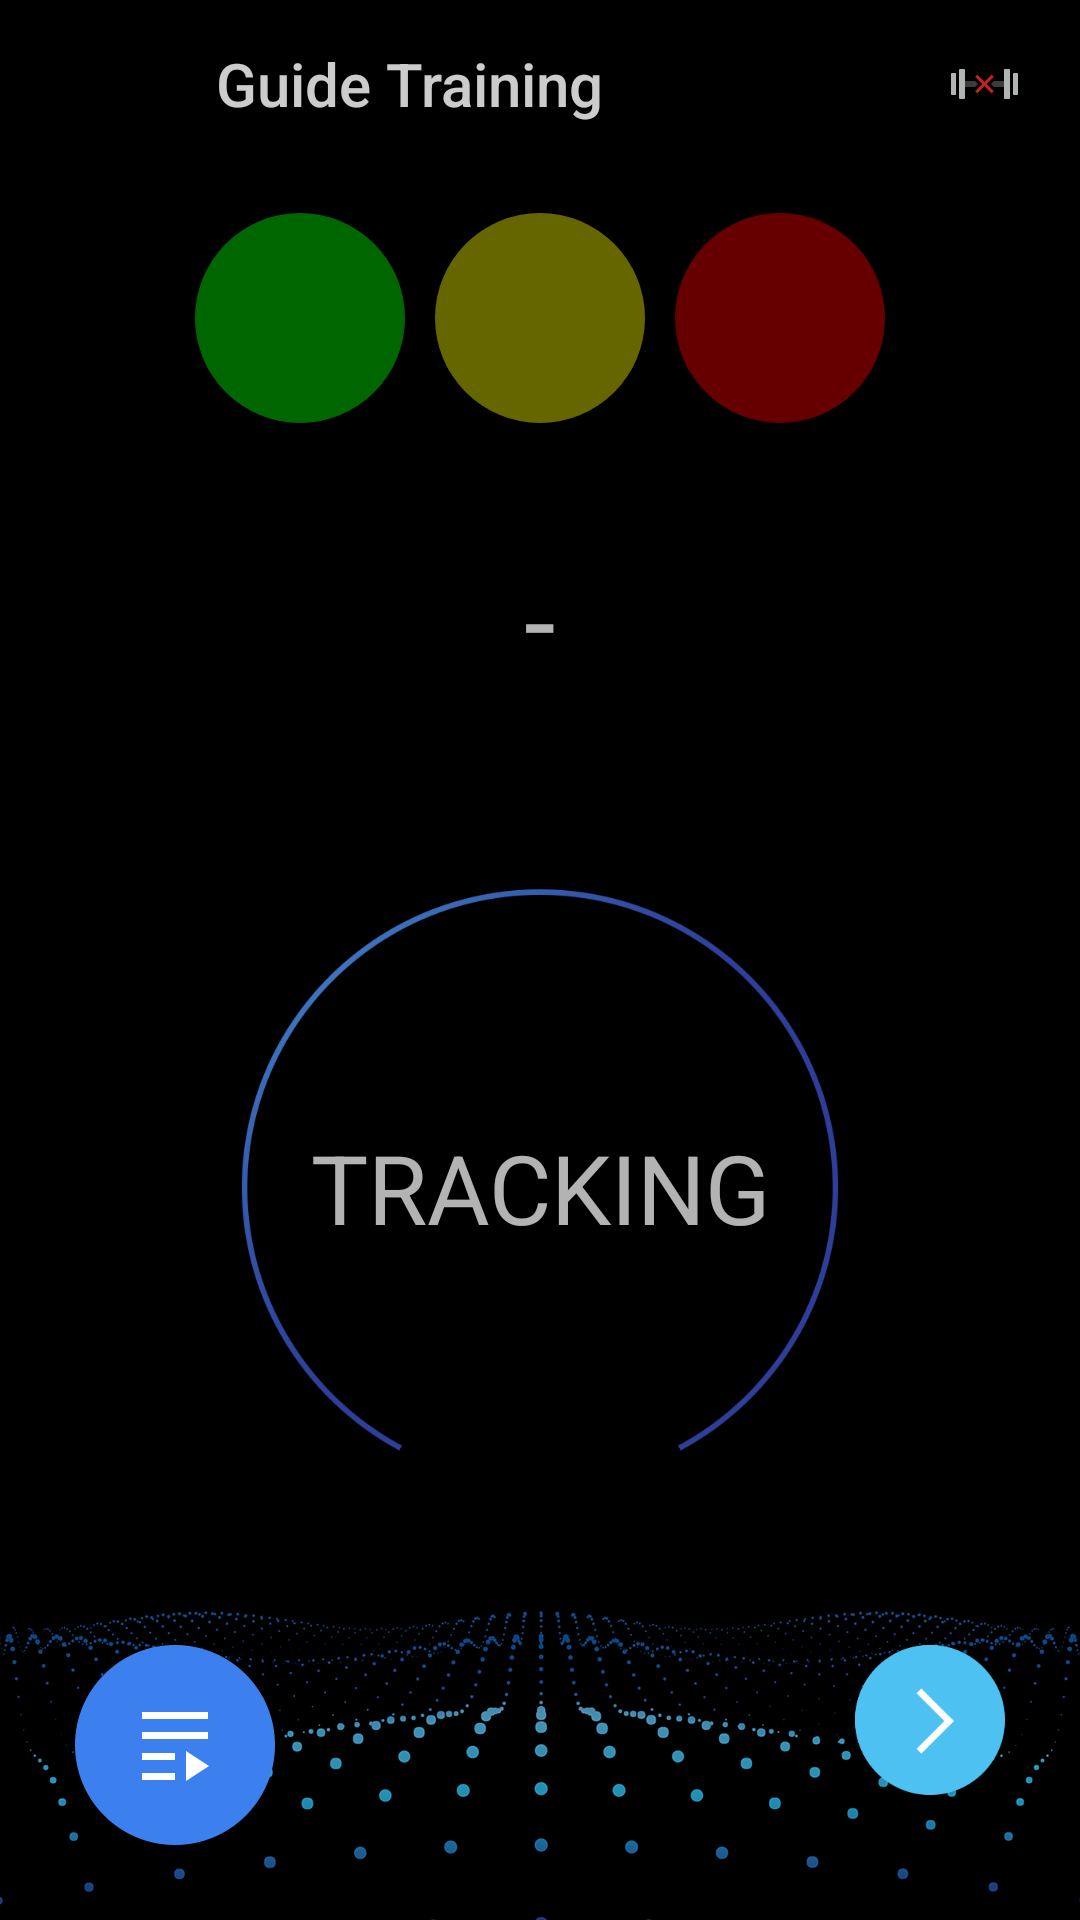

Where to tap for icons on this 1080×1920 app screen, as (x=x, y=y):
title connect no: (x=984, y=84)
